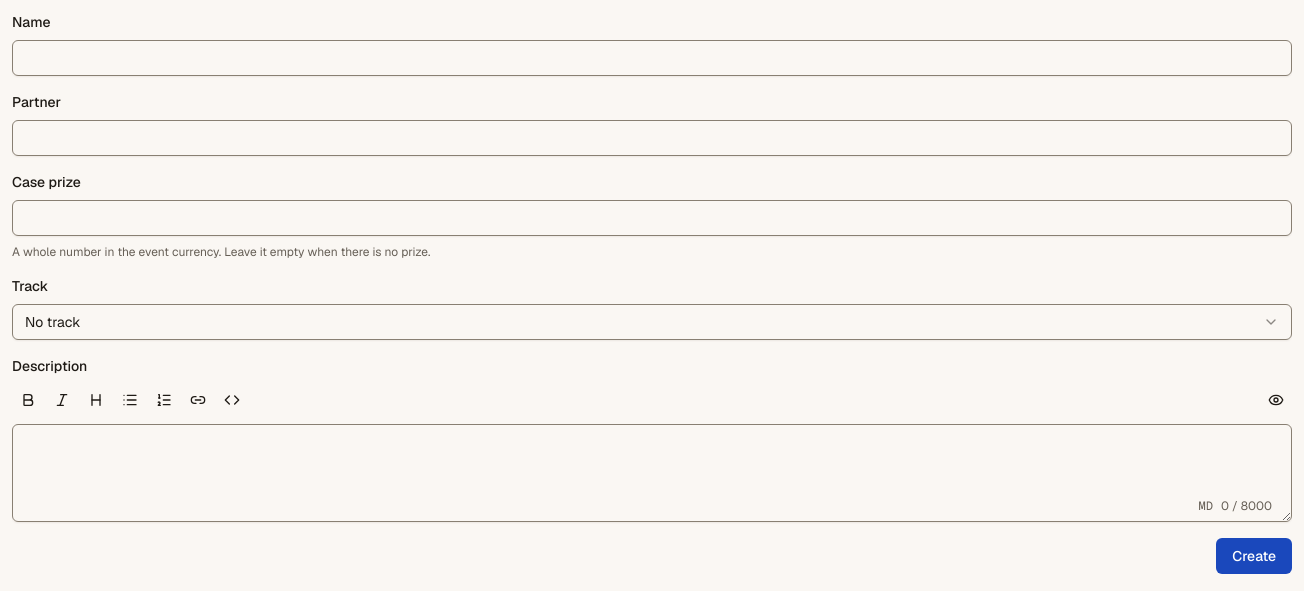
Scenario: the case prize amount groups digits and refuses a fraction › groups the amount as it is typed and keeps the raw digits underneath
The image size is (1304, 591).
Click the field with id "case-new-prize". click: [652, 218]
box: [12,200,1292,236]
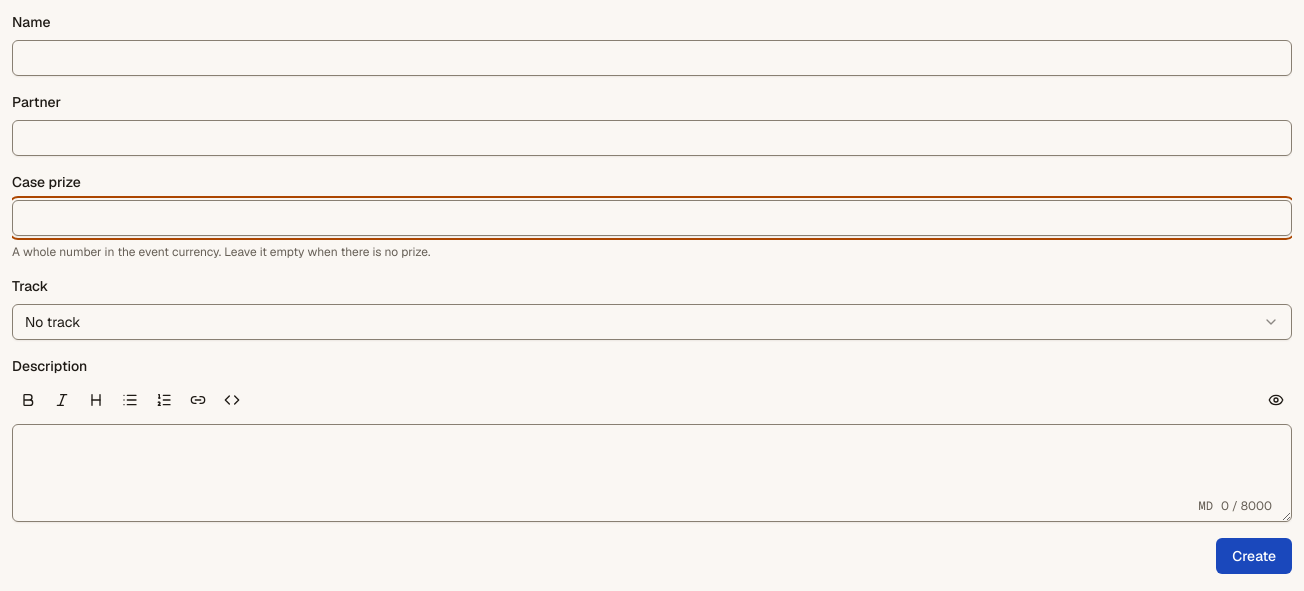
Type keys "150000"
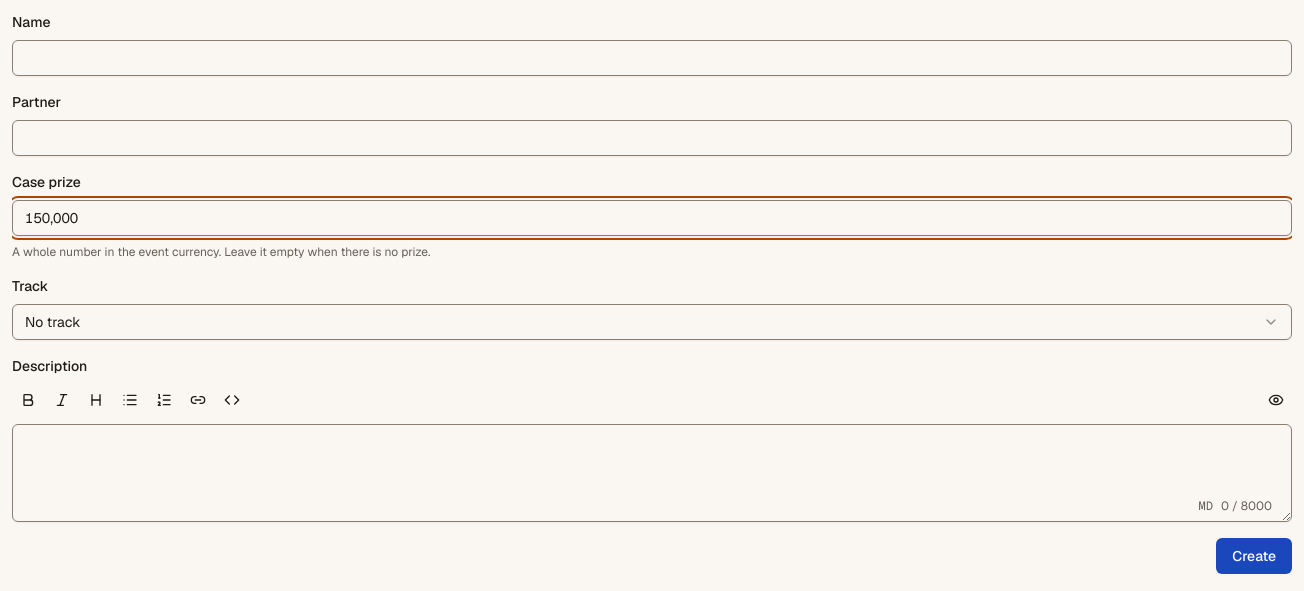
Check: the field with id "case-new-prize" holds "150,000", box [12,200,1292,236]
